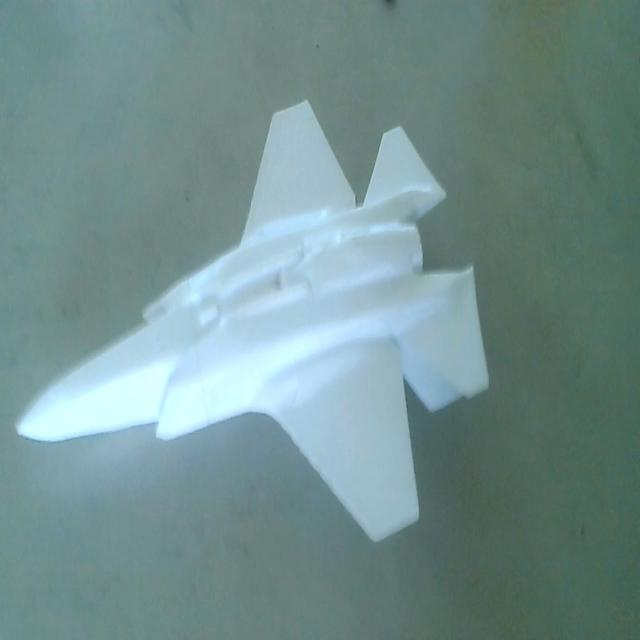Jet: (12, 91, 492, 564)
